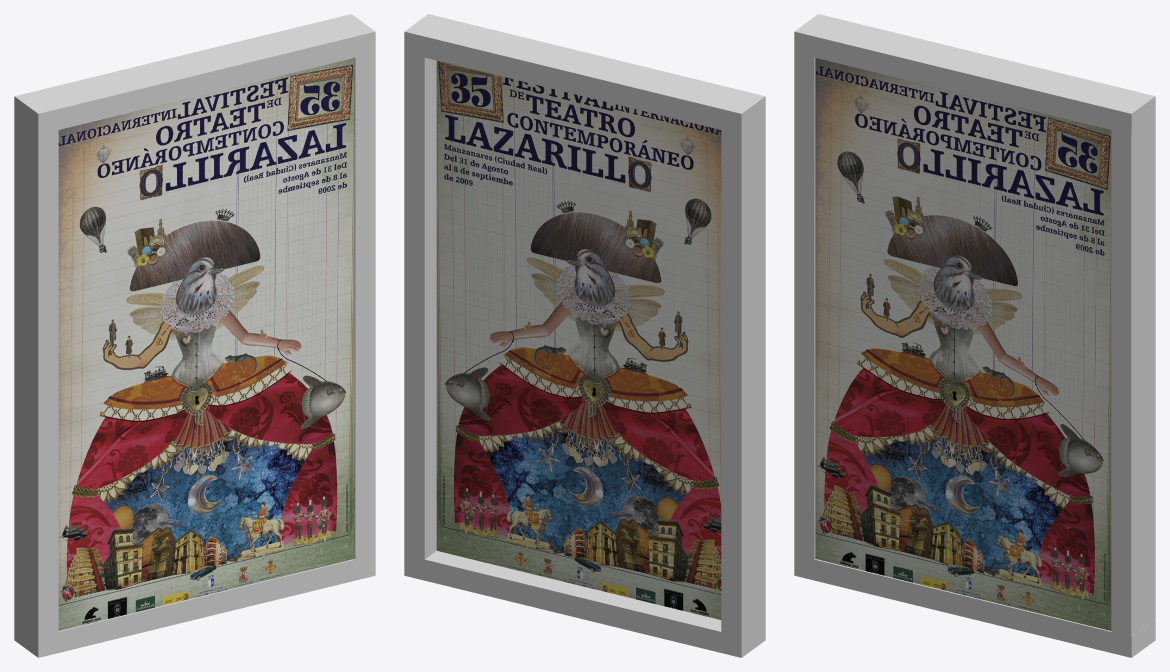
File: poster.dae
3 views of the same model, side by side, from view 1: azimuth 30°, elevation 25°; view 2: azimuth 150°, elevation 25°; view 3: azimuth 330°, elevation 25° (orthographic).
Parts seen in each view (by area): view 1: 35edbb24989363.5604b5217899c.001, Cube.006, Cube.005; view 2: 35edbb24989363.5604b5217899c.001, Cube.006, Cube.005; view 3: 35edbb24989363.5604b5217899c.001, Cube.006, Cube.005.
Boxes of the visible parts, bbox=[...] form: 35edbb24989363.5604b5217899c.001: bbox=[58, 58, 354, 630]; Cube.006: bbox=[14, 45, 375, 640]; Cube.005: bbox=[14, 14, 375, 657]; 35edbb24989363.5604b5217899c.001: bbox=[436, 60, 721, 619]; Cube.006: bbox=[404, 53, 765, 636]; Cube.005: bbox=[404, 14, 765, 657]; 35edbb24989363.5604b5217899c.001: bbox=[815, 58, 1111, 630]; Cube.006: bbox=[794, 45, 1155, 640]; Cube.005: bbox=[794, 14, 1155, 657].
Size of the model in its own units: 0.69 by 0.0853 by 1.06.
1 material, 1 textured.
